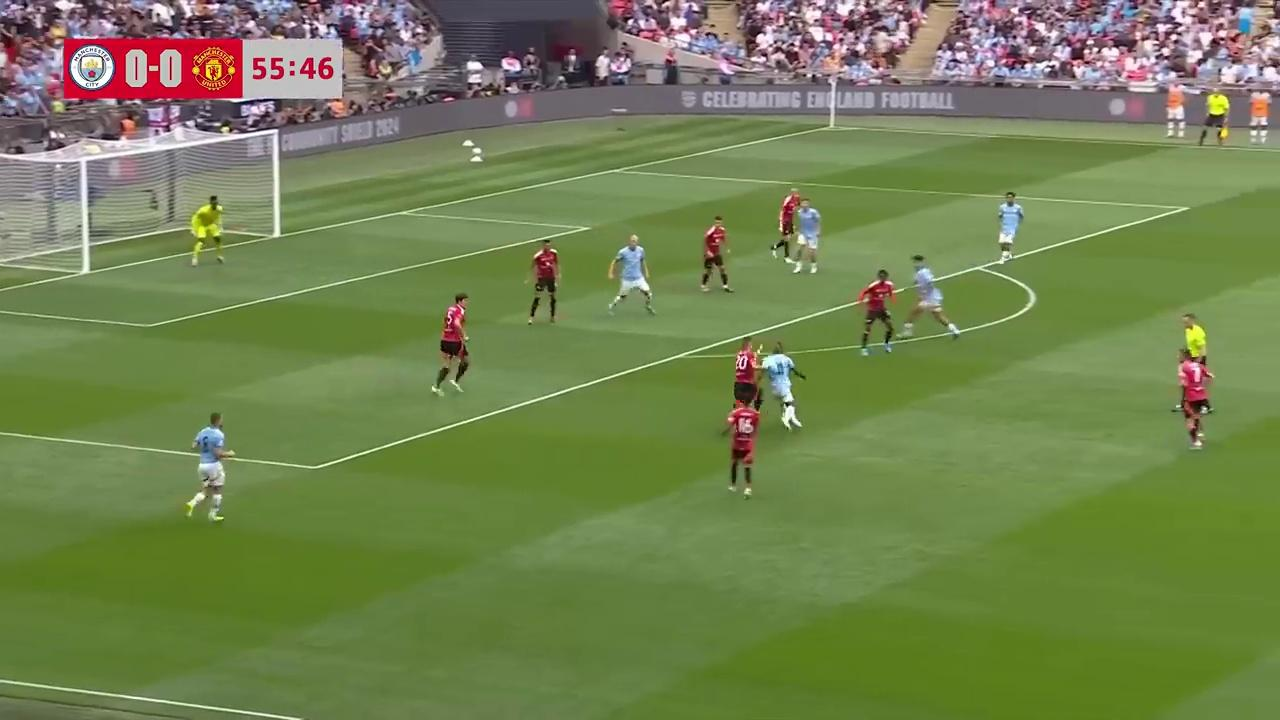player: (184, 412, 233, 523), (902, 254, 958, 337), (718, 396, 759, 498), (1176, 350, 1217, 452), (606, 233, 656, 316), (762, 340, 807, 432), (852, 268, 898, 356), (430, 301, 469, 396), (524, 238, 561, 326), (188, 193, 225, 268), (699, 215, 732, 293), (732, 338, 764, 411), (791, 199, 821, 276), (771, 188, 801, 263), (996, 191, 1024, 265)
referee: (1197, 90, 1229, 149), (1182, 309, 1210, 365)
